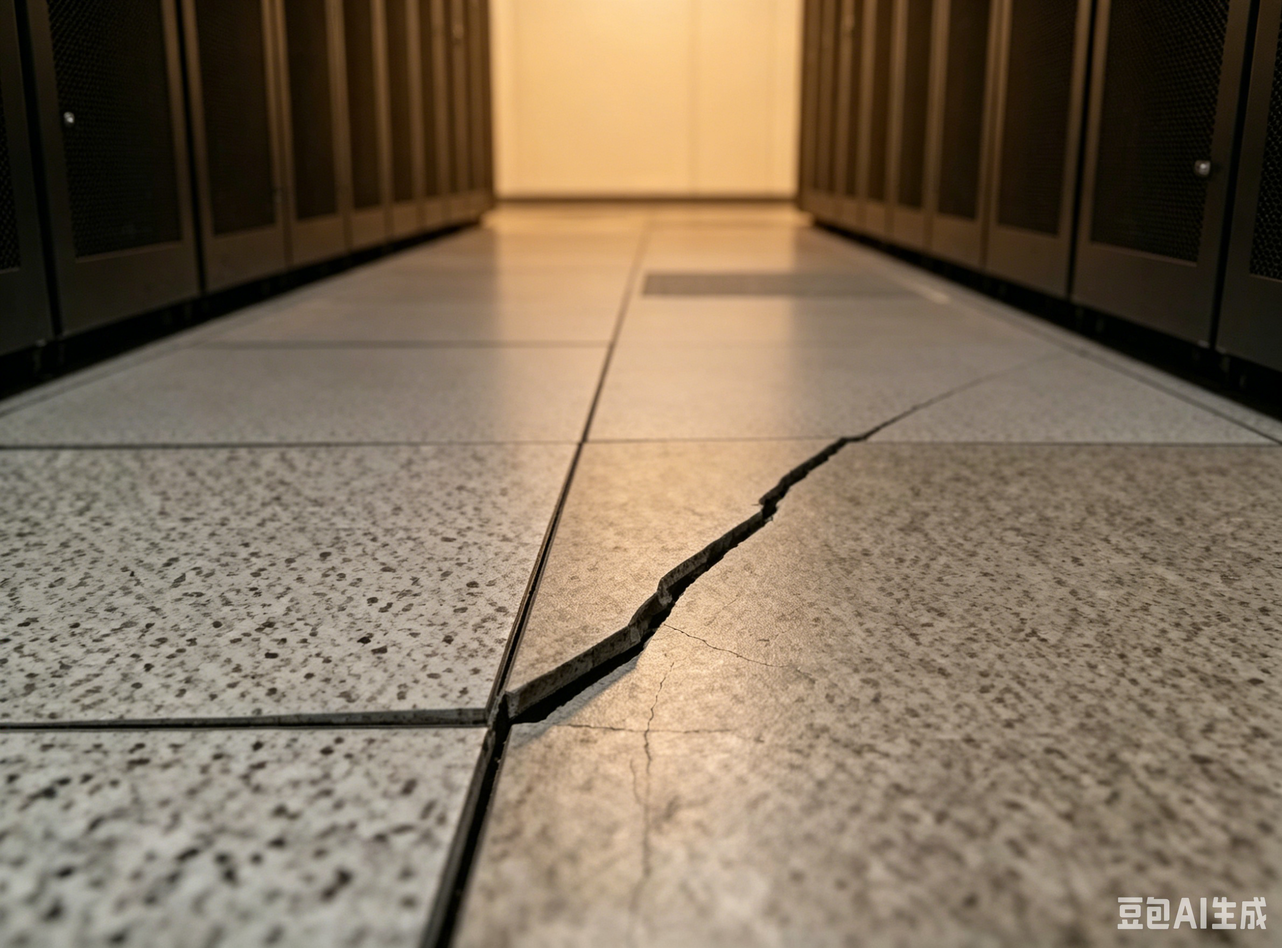floor_defect: (411, 620, 572, 948), (0, 672, 500, 763), (570, 587, 677, 692), (653, 526, 776, 610), (742, 440, 861, 526), (861, 395, 971, 441)
